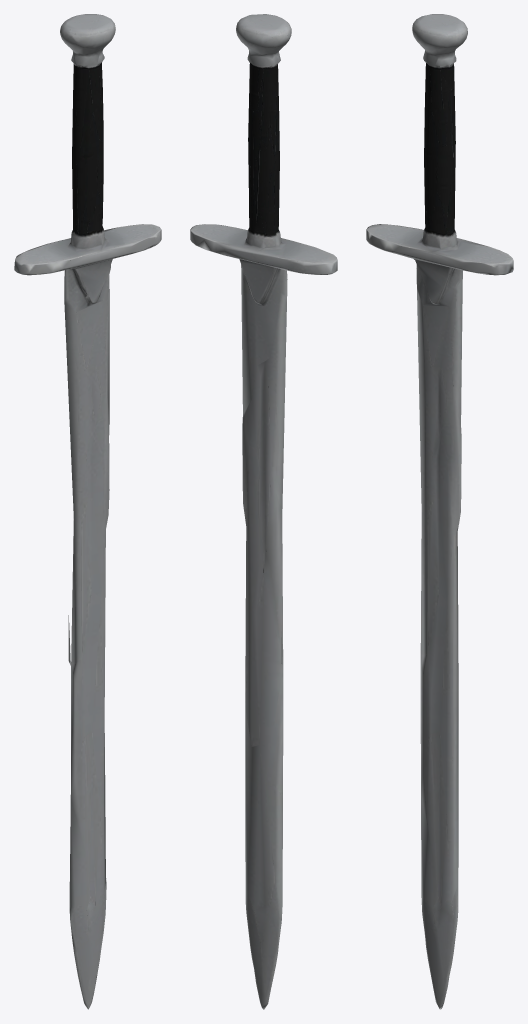
The model's file is wpn_dao.glb.
3 views of the same model, side by side, from view 1: azimuth 30°, elevation 25°; view 2: azimuth 150°, elevation 25°; view 3: azimuth 330°, elevation 25° (orthographic).
Size of the model in its own units: 0.2897 by 1.89 by 0.0857.
Materials: 1 (1 with a texture image).
